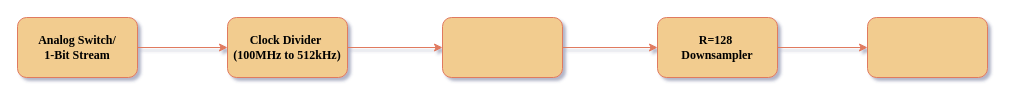
The diagram is 1011 pixels wide and 101 high, and some of its shapes have lost their labels. Here are the shapes that lost their labels. From the top down, the centre of each, then its label:
At (x=502, y=47): "CIC Accumulator".
At (x=927, y=47): "16-Bit LED Bus".
